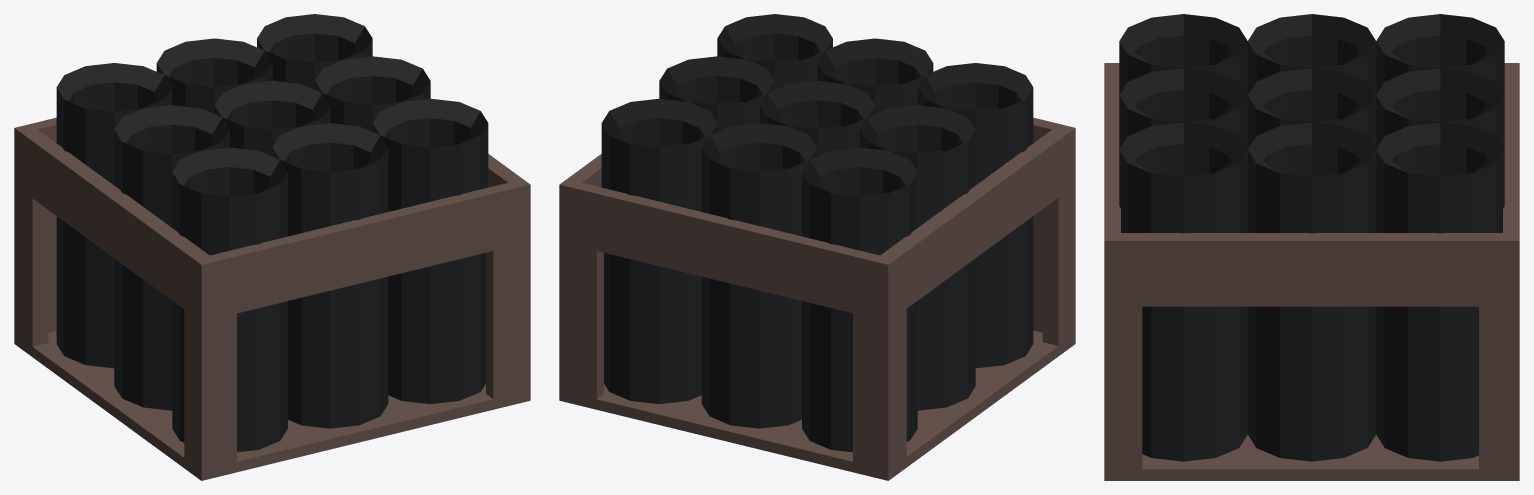
File: Canister_tube_Rack.fbx
3 renders of one model, left to right at view 1: azimuth 30°, elevation 25°; view 2: azimuth 150°, elevation 25°; view 3: azimuth 270°, elevation 25°, orthographic. The views are drawn at different scales.
Visible parts, largest first — view 1: Cube, Cylinder.002, Cylinder.005, Cylinder.008, Cylinder.009, Cylinder.007, Cylinder.001, Cylinder, Cylinder.004, Cylinder.006; view 2: Cube, Cylinder.001, Cylinder.006, Cylinder.009, Cylinder.008, Cylinder.007, Cylinder.002, Cylinder, Cylinder.004, Cylinder.005; view 3: Cube, Cylinder.004, Cylinder.005, Cylinder.006, Cylinder, Cylinder.007, Cylinder.009, Cylinder.008, Cylinder.001, Cylinder.002.
Boxes of the visible parts, box(x1,y1,x2,y2) form: Cube: box(14, 117, 530, 480); Cylinder.002: box(272, 123, 388, 428); Cylinder.005: box(372, 98, 488, 404); Cylinder.008: box(172, 147, 287, 452); Cylinder.009: box(56, 63, 172, 368); Cylinder.007: box(114, 105, 229, 410); Cylinder.001: box(156, 38, 272, 113); Cylinder: box(214, 81, 330, 156); Cylinder.004: box(315, 56, 430, 131); Cylinder.006: box(257, 14, 372, 89); Cube: box(559, 117, 1075, 480); Cylinder.001: box(701, 123, 817, 428); Cylinder.006: box(601, 98, 717, 404); Cylinder.009: box(802, 147, 917, 452); Cylinder.008: box(917, 63, 1033, 368); Cylinder.007: box(860, 105, 975, 410); Cylinder.002: box(817, 38, 933, 113); Cylinder: box(759, 81, 875, 155); Cylinder.004: box(659, 56, 774, 131); Cylinder.005: box(717, 14, 832, 89); Cube: box(1104, 63, 1519, 480); Cylinder.004: box(1247, 122, 1376, 461); Cylinder.005: box(1119, 122, 1247, 461); Cylinder.006: box(1376, 122, 1504, 461); Cylinder: box(1247, 68, 1376, 149); Cylinder.007: box(1247, 14, 1376, 94); Cylinder.009: box(1376, 14, 1504, 94); Cylinder.008: box(1119, 14, 1247, 94); Cylinder.001: box(1376, 68, 1504, 148); Cylinder.002: box(1119, 68, 1247, 148).
Bounding box in the file's own units: 65.67 × 50.93 × 64.69.
